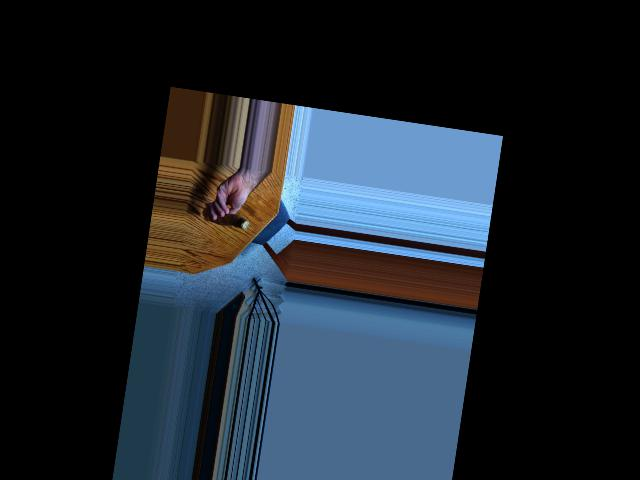sweet_potato: (201, 203, 252, 231)
